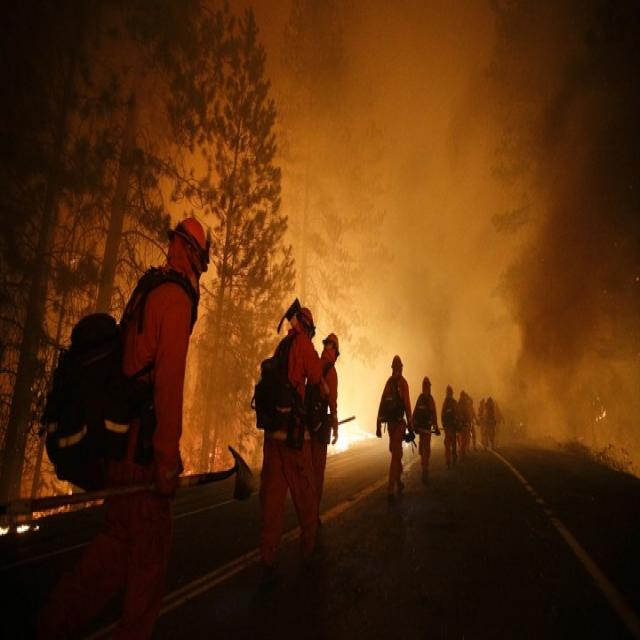Fire: (314, 272, 389, 452)
